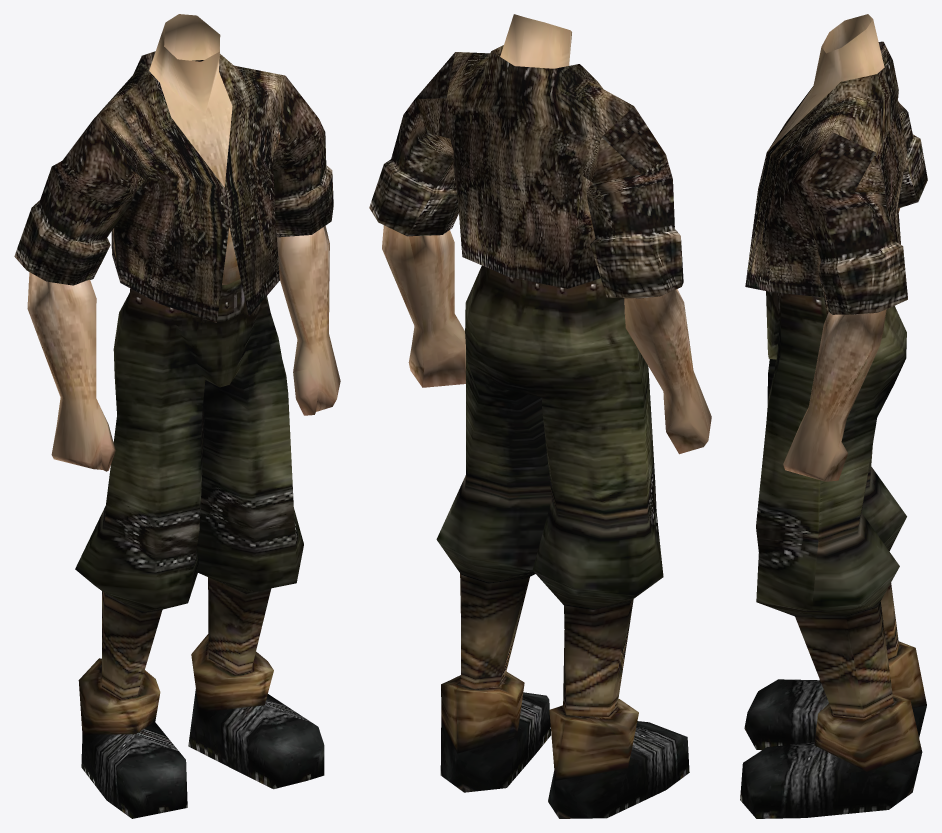
Rendered from KOP_SMAC_KOSZ.glb.
The picture shows the model from 3 angles, left to right: view 1: azimuth 30°, elevation 25°; view 2: azimuth 150°, elevation 25°; view 3: azimuth 270°, elevation 25°; orthographic projection. The views are drawn at different scales.
Parts seen in each view (by area): view 1: KOP_SMAC_KOSZ; view 2: KOP_SMAC_KOSZ; view 3: KOP_SMAC_KOSZ.
Boxes of the visible parts, <box> form: KOP_SMAC_KOSZ: <box>14,14,340,818</box>; KOP_SMAC_KOSZ: <box>369,14,711,818</box>; KOP_SMAC_KOSZ: <box>740,14,927,818</box>.
Size of the model in its own units: 0.7078 by 1.69 by 0.3796.
3 materials, 3 textured.
